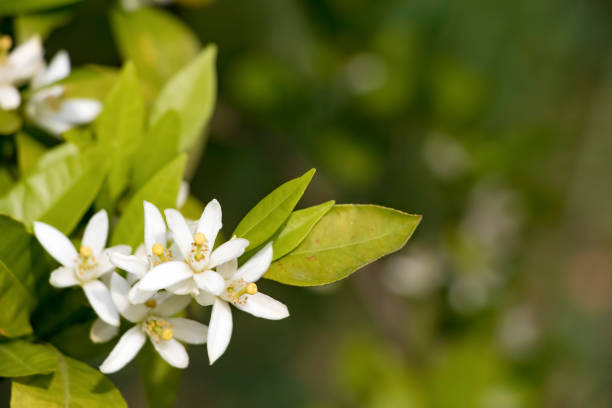flower: (133, 199, 248, 301), (193, 251, 293, 362), (27, 215, 127, 322), (100, 282, 206, 378), (110, 206, 196, 292)
